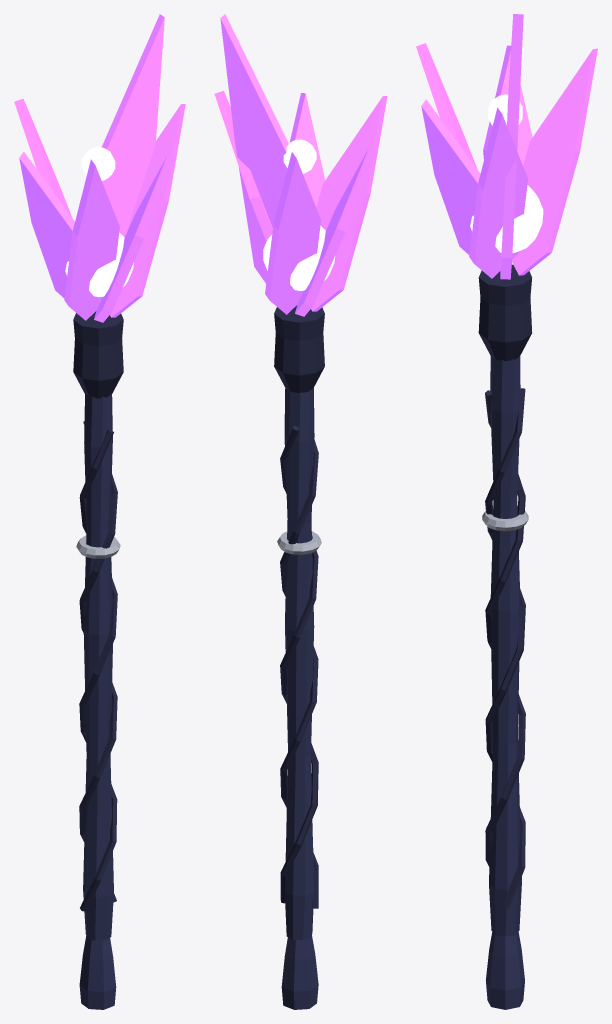
Rendered from staff_violetblaze.glb.
3 views of the same model, side by side, from view 1: azimuth 30°, elevation 25°; view 2: azimuth 150°, elevation 25°; view 3: azimuth 270°, elevation 25° (orthographic). The views are drawn at different scales.
Parts seen in each view (by area): view 1: Vb_Shaft, Vb_Flame0, Vb_Flame3, Vb_Neck, Vb_Flame2, Vb_Flame5, Vb_Vine1, Vb_Flame4, Vb_Butt, Vb_Vine0, Vb_Flame1, Vb_Core (+2 smaller); view 2: Vb_Shaft, Vb_Flame0, Vb_Flame1, Vb_Flame3, Vb_Neck, Vb_Flame2, Vb_Vine0, Vb_Vine1, Vb_Butt, Vb_Flame5, Vb_Flame4, Vb_Core (+2 smaller); view 3: Vb_Shaft, Vb_Flame1, Vb_Flame5, Vb_Neck, Vb_Flame4, Vb_Vine0, Vb_Flame0, Vb_Butt, Vb_Vine1, Vb_Flame3, Vb_Core, Vb_Flame2 (+2 smaller).
Part boxes in pixels (left/top/right/bottom): Vb_Shaft: left=83, top=393, right=113, bottom=940; Vb_Flame0: left=102, top=14, right=164, bottom=236; Vb_Flame3: left=64, top=159, right=119, bottom=320; Vb_Neck: left=73, top=311, right=123, bottom=398; Vb_Flame2: left=19, top=151, right=74, bottom=298; Vb_Flame5: left=110, top=104, right=185, bottom=317; Vb_Vine1: left=79, top=429, right=117, bottom=911; Vb_Flame4: left=94, top=156, right=176, bottom=322; Vb_Butt: left=79, top=936, right=116, bottom=1009; Vb_Vine0: left=79, top=421, right=117, bottom=902; Vb_Flame1: left=14, top=98, right=72, bottom=217; Vb_Core: left=65, top=232, right=133, bottom=297; Vb_Shaft: left=284, top=388, right=314, bottom=940; Vb_Flame0: left=220, top=14, right=288, bottom=283; Vb_Flame1: left=265, top=152, right=320, bottom=314; Vb_Flame3: left=311, top=96, right=387, bottom=311; Vb_Neck: left=274, top=305, right=324, bottom=393; Vb_Flame2: left=295, top=148, right=377, bottom=316; Vb_Vine0: left=280, top=425, right=318, bottom=903; Vb_Vine1: left=280, top=439, right=318, bottom=908; Vb_Butt: left=281, top=935, right=318, bottom=1009; Vb_Flame5: left=214, top=90, right=272, bottom=241; Vb_Flame4: left=289, top=93, right=325, bottom=207; Vb_Core: left=263, top=225, right=335, bottom=290; Vb_Shaft: left=489, top=356, right=521, bottom=936; Vb_Flame1: left=512, top=48, right=597, bottom=275; Vb_Flame5: left=469, top=107, right=528, bottom=278; Vb_Neck: left=478, top=264, right=532, bottom=361; Vb_Flame4: left=421, top=99, right=480, bottom=254; Vb_Vine0: left=485, top=388, right=525, bottom=908; Vb_Flame0: left=500, top=14, right=523, bottom=279; Vb_Butt: left=486, top=932, right=524, bottom=1009; Vb_Vine1: left=485, top=390, right=525, bottom=866; Vb_Flame3: left=416, top=43, right=477, bottom=169; Vb_Core: left=470, top=185, right=543, bottom=253; Vb_Flame2: left=483, top=45, right=532, bottom=165.
Bounding box in the file's own units: 0.4595 × 2.58 × 0.4153.
